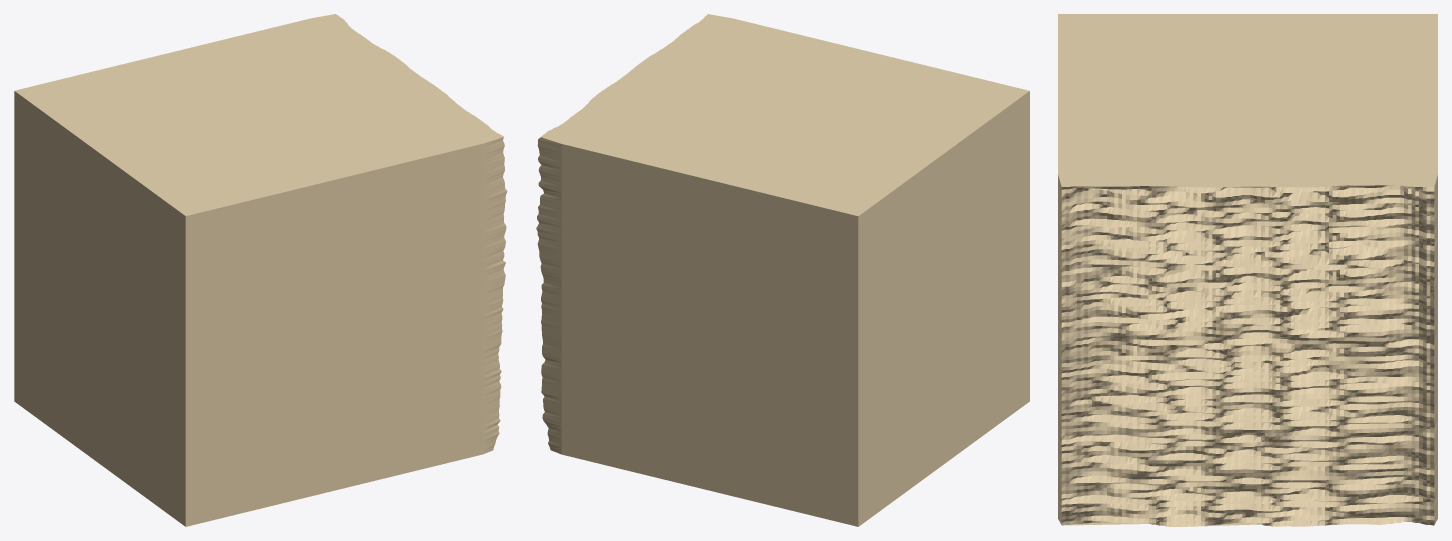
File: lat2.png.obj
The picture shows the model from 3 angles, left to right: view 1: azimuth 30°, elevation 25°; view 2: azimuth 150°, elevation 25°; view 3: azimuth 270°, elevation 25°; orthographic projection. The views are drawn at different scales.
Visible parts, largest first — view 1: Cube; view 2: Cube; view 3: Cube.
Part boxes in pixels (left/top/right/bottom): Cube: left=14, top=14, right=507, bottom=526; Cube: left=536, top=14, right=1029, bottom=526; Cube: left=1058, top=14, right=1437, bottom=526.
Size of the model in its own units: 1.09 by 1 by 1.
